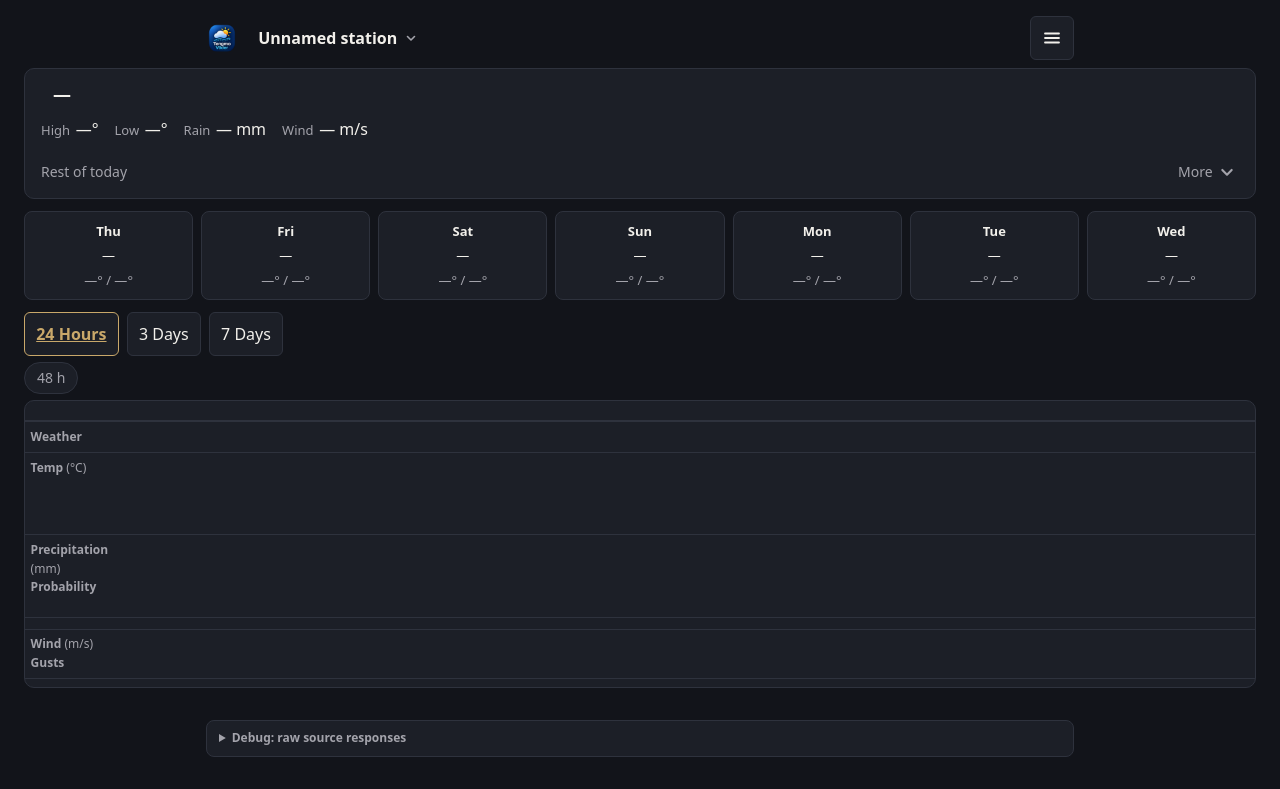
Test: Location Panel (013-overview-default-and-layout, US2) › keeps the panel open when adding a favorite via search
The width and height of the screenshot is (1280, 789).
Click the button with aria-label "Change location" at (338, 38), box [246,16,429,60]
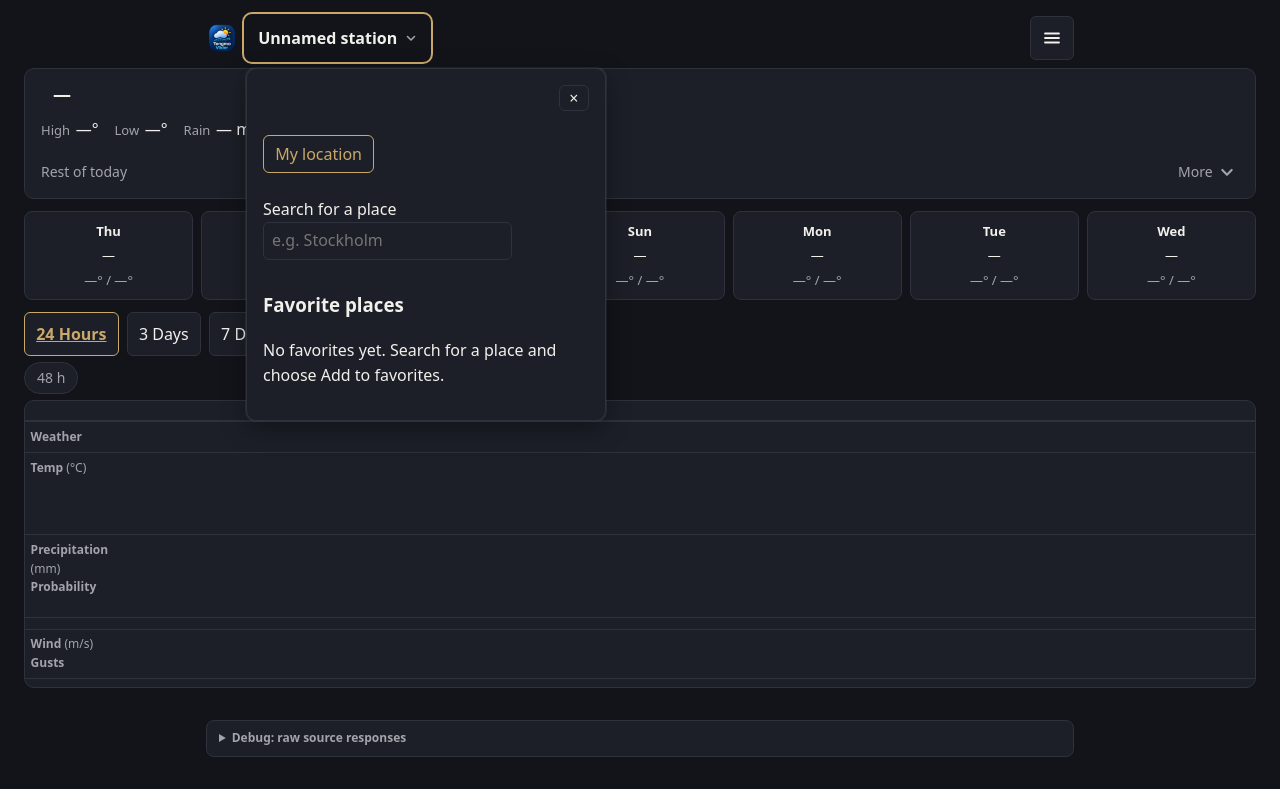
Type "Paris" into the field labelled "Search for a place" at (388, 241), box [263,222,512,260]
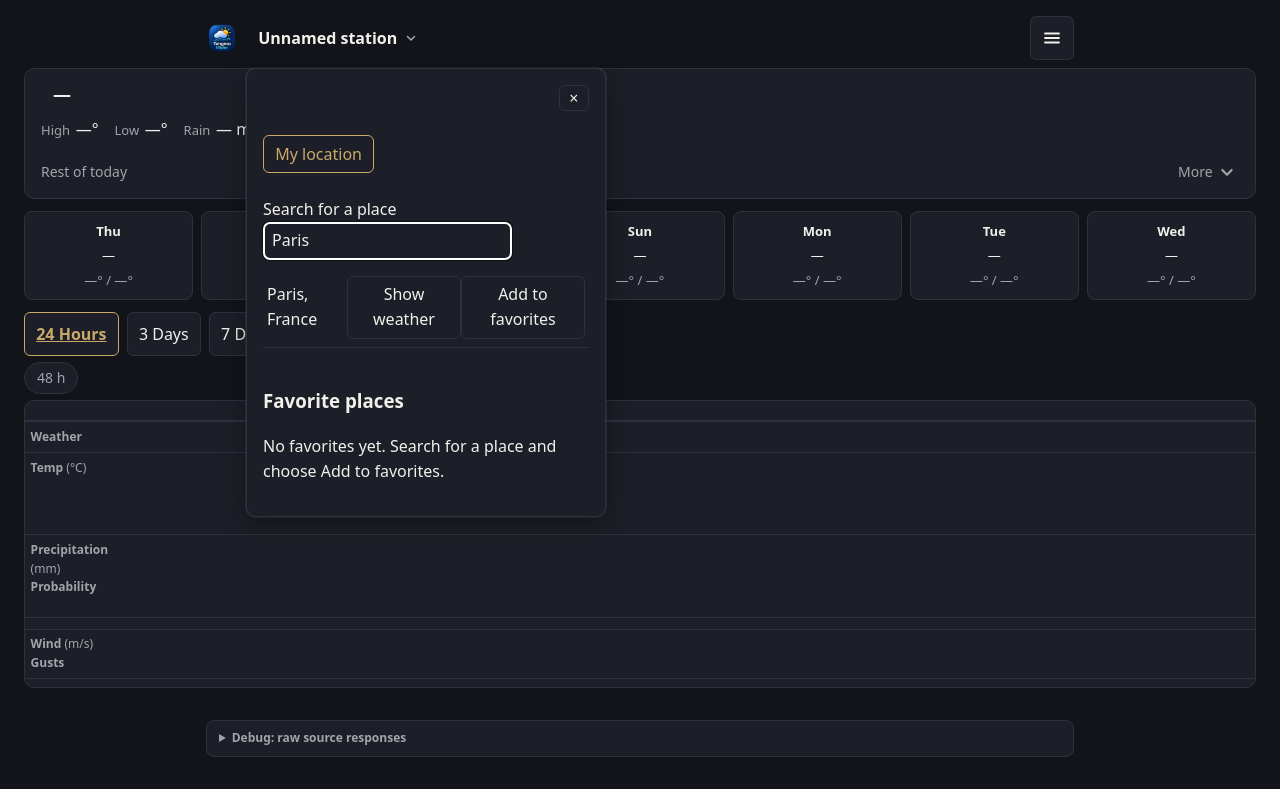
Click the button "Add to favorites" at (523, 307), box [461,276,585,339]
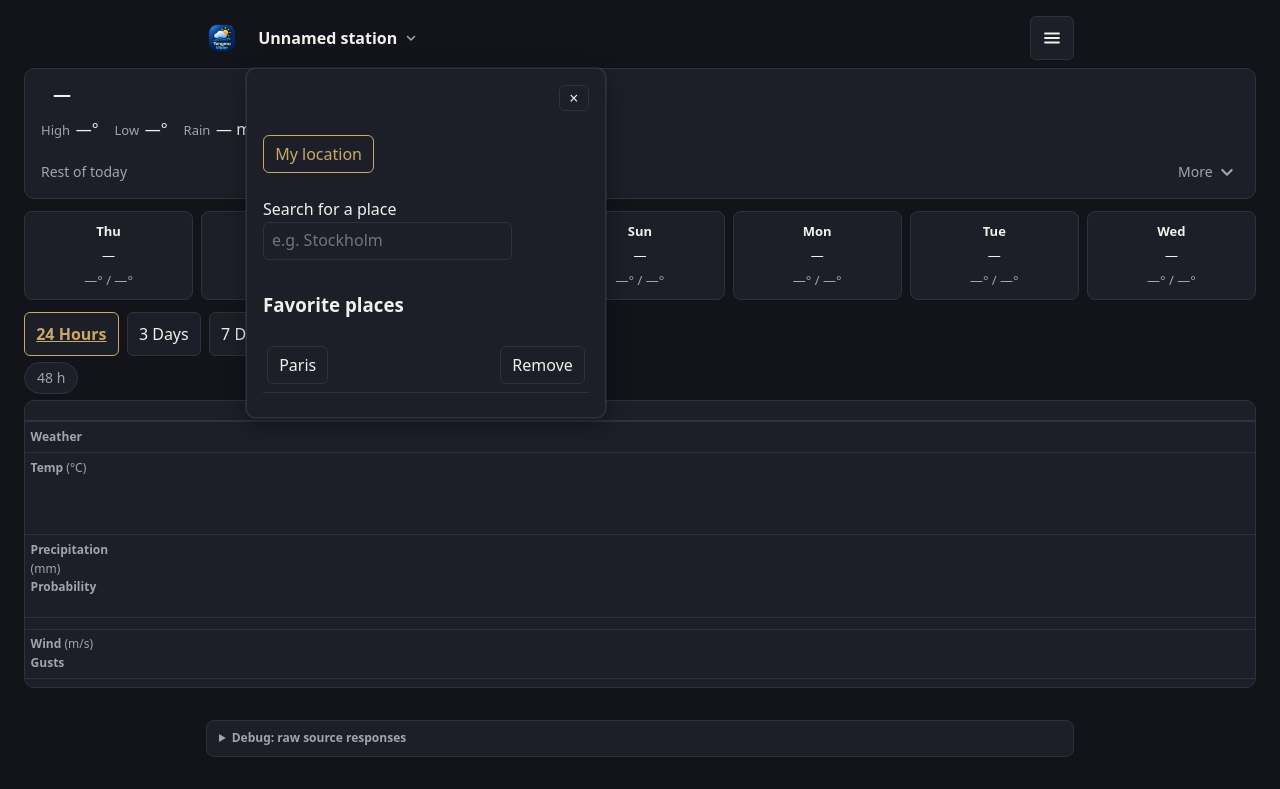
expect the field labelled "Search for a place" is shown: met, box [263,222,512,260]
expect the button "Paris" is shown: met, box [267,346,328,384]
